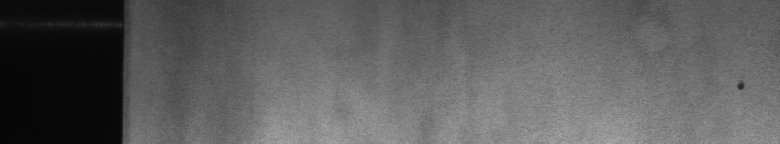fi: (732, 72, 750, 100)
